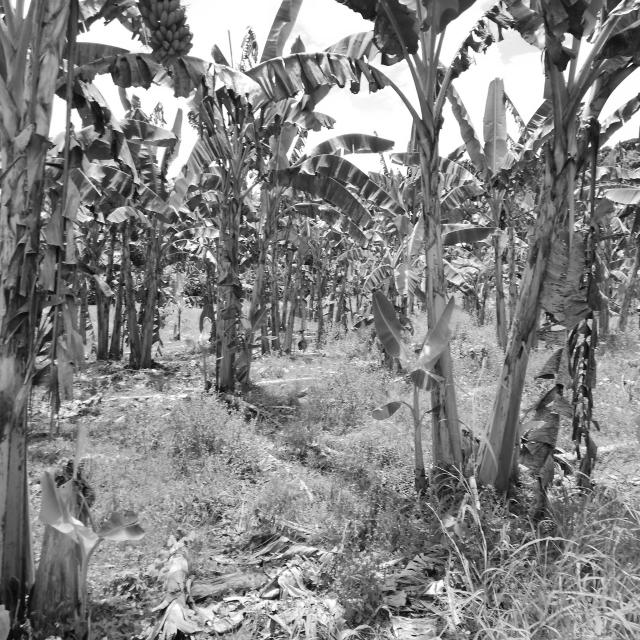Banana-plant: (470, 73, 601, 512), (0, 21, 68, 639), (392, 39, 457, 500), (212, 152, 250, 392)
